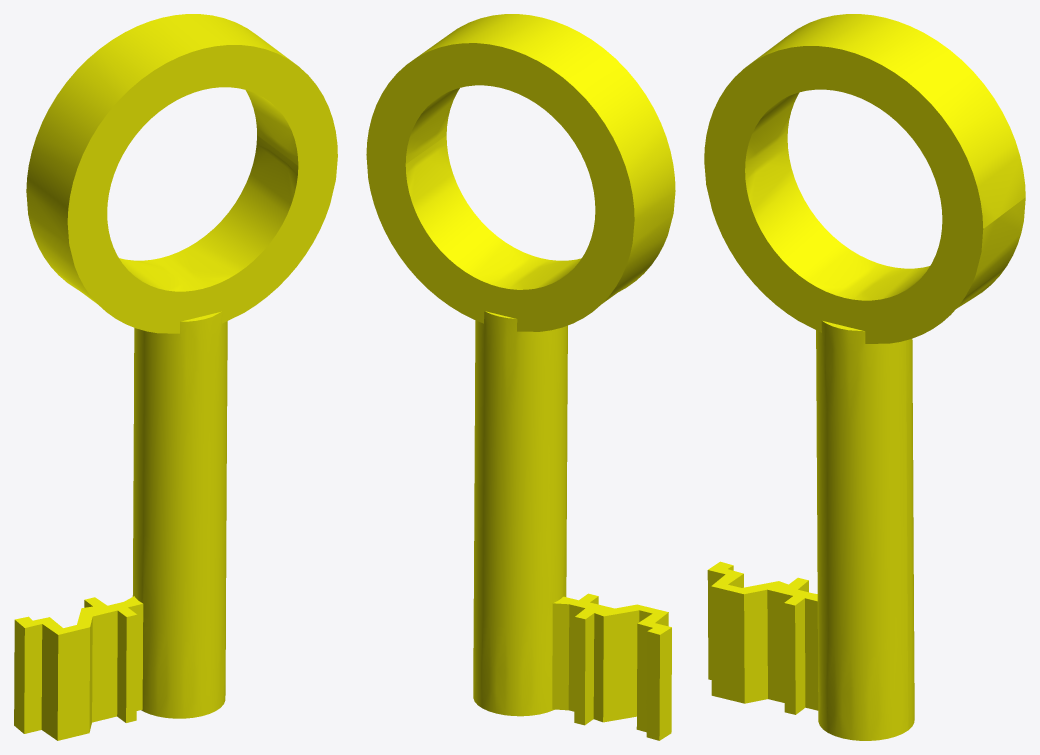
The model's file is Key.FBX.
The picture shows the model from 3 angles, left to right: view 1: azimuth 30°, elevation 25°; view 2: azimuth 150°, elevation 25°; view 3: azimuth 330°, elevation 25°; orthographic projection. The views are drawn at different scales.
Parts seen in each view (by area): view 1: key_1; view 2: key_1; view 3: key_1.
Boxes of the visible parts, x1=… form: key_1: x1=14, y1=14, x2=337, y2=740; key_1: x1=366, y1=14, x2=675, y2=740; key_1: x1=704, y1=14, x2=1025, y2=740.
Size of the model in its own units: 82.99 by 183 by 24.31.
